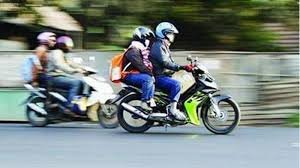motor: (117, 62, 237, 143), (26, 67, 116, 124)
